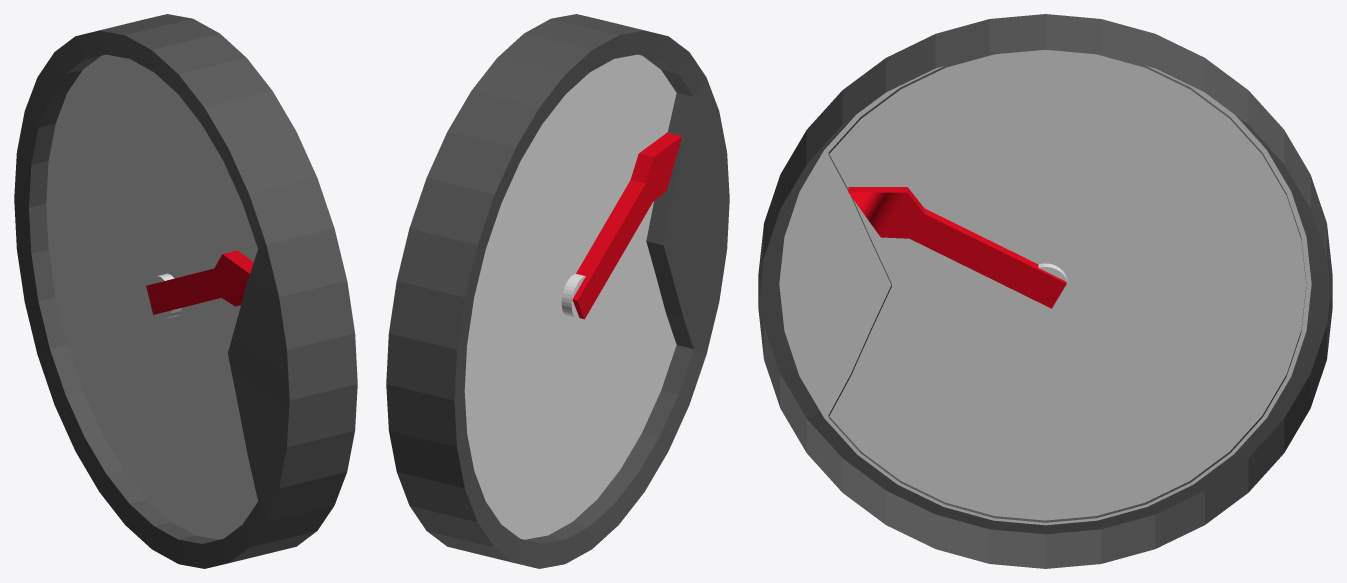
Rendered from Meter.fbx.
3 renders of one model, left to right at view 1: azimuth 30°, elevation 25°; view 2: azimuth 150°, elevation 25°; view 3: azimuth 270°, elevation 25°, orthographic. The views are drawn at different scales.
Visible parts, largest first — view 1: Cylinder, Cylinder.003, Cube.001; view 2: Cylinder, Cylinder.003, Cube.001; view 3: Cylinder.003, Cylinder, Cube.001.
Part boxes in pixels (x1,y1,x2,y2): Cylinder: (14, 14, 357, 568); Cylinder.003: (46, 54, 257, 539); Cube.001: (146, 250, 253, 318); Cylinder: (386, 14, 729, 568); Cylinder.003: (464, 54, 676, 539); Cube.001: (561, 132, 681, 319); Cylinder.003: (779, 49, 1311, 525); Cylinder: (758, 14, 1332, 568); Cube.001: (848, 187, 1068, 308).
Bounding box in the file's own units: 31.43 × 220 × 220.
